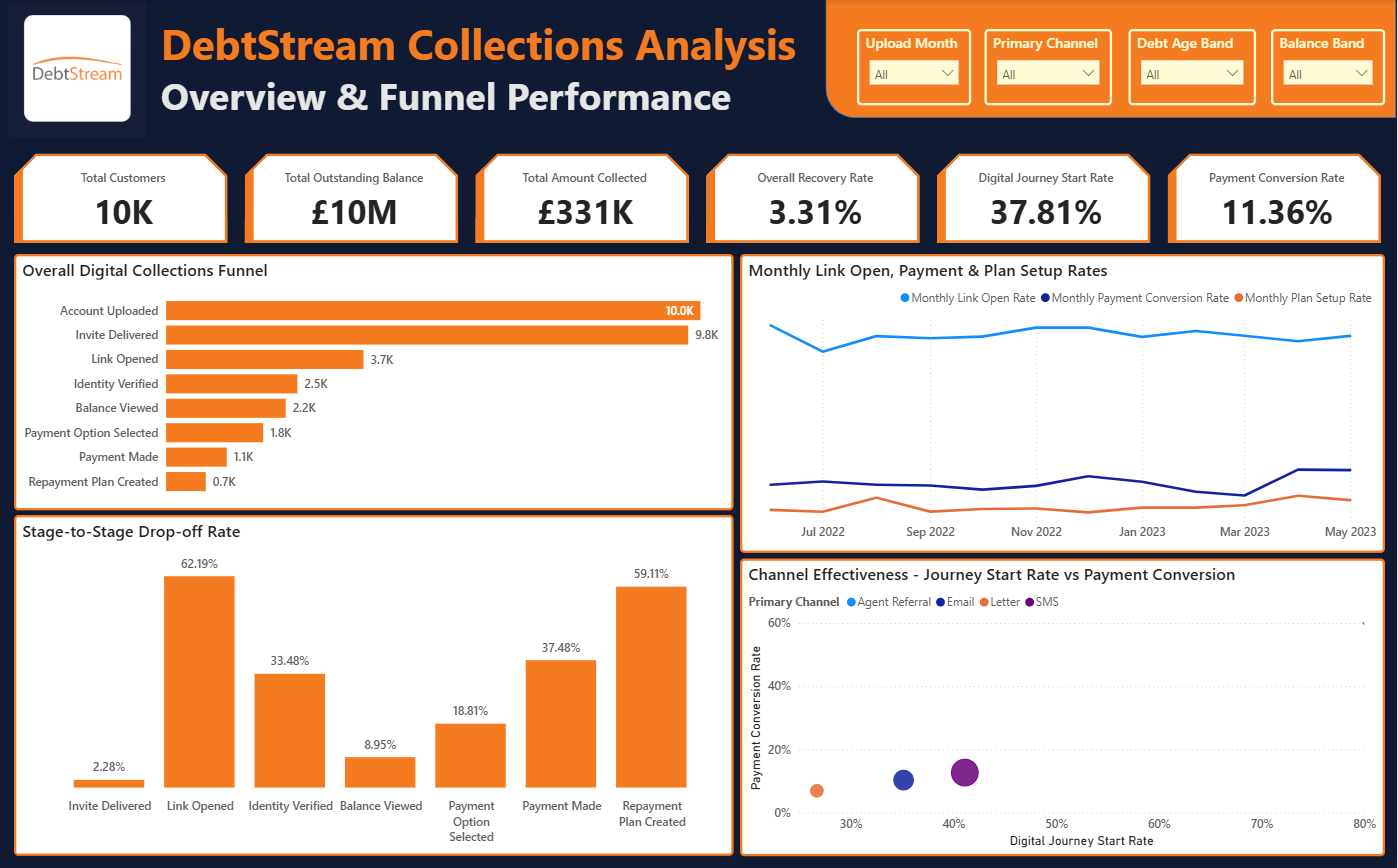

What the dashboard file says about the page in this screenshot:
{"tool":"powerbi","page":{"name":"Overview & Funnel Performance","canvas":[1600,1000],"ordinal":0},"visuals":[{"type":"textbox","box":[180.2,12,748.3,147.6],"z":0},{"type":"image","box":[0,0,179.8,159],"z":1000},{"type":"cardVisual","fields":{"Data":["Key Measures.Total Customers","Key Measures.Total Outstanding Balance","Key Measures.Total Amount Collected","Key Measures.Overall Recovery Rate","Key Measures.Digital Journey Start Rate","Key Measures.Payment Conversion Rate"]},"box":[0,159,1599.4,136.3],"z":2000},{"type":"clusteredBarChart","title":"Overall Digital Collections Funnel","fields":{"Category":["Funnel Stages.Stage"],"Y":["Key Measures.Funnel Customers"]},"box":[17,291.5,823,293],"z":3000},{"type":"clusteredColumnChart","title":"Stage-to-Stage Drop-off Rate","fields":{"Category":["Funnel Stages.Stage"],"Y":["Key Measures.Stage Drop-off Rate"]},"box":[17,590.5,823,389.9],"z":4000},{"type":"lineChart","title":"Monthly Link Open, Payment & Plan Setup Rates","fields":{"Category":["Monthly Funnel Trend.upload_month"],"Y":["Key Measures.Monthly Link Open Rate","Key Measures.Monthly Payment Conversion Rate","Key Measures.Monthly Plan Setup Rate"]},"box":[848,291.5,738.2,342],"z":5000},{"type":"shape","box":[946.4,0,653,136.3],"z":6000},{"type":"scatterChart","title":"Channel Effectiveness - Journey Start Rate vs Payment Conversion","fields":{"Category":["Fact Customer.primary_channel"],"X":["Key Measures.Digital Journey Start Rate"],"Y":["Key Measures.Payment Conversion Rate"],"Size":["Key Measures.Total Customers"],"Series":["Fact Customer.primary_channel"]},"box":[848,639.8,738.2,340.7],"z":7000},{"type":"slicer","title":"Primary Channel","fields":{"Values":["Fact Customer.primary_channel"]},"box":[1128.1,34.1,145.7,87.1],"z":8000},{"type":"slicer","title":"Debt Age Band","fields":{"Values":["Fact Customer.debt_age_band"]},"box":[1292.8,34.1,145.7,87.1],"z":9000},{"type":"slicer","title":"Upload Month","fields":{"Values":["Fact Customer.upload_month"]},"box":[982.3,34.1,130.6,87.1],"z":10000},{"type":"slicer","title":"Balance Band","fields":{"Values":["Fact Customer.balance_band"]},"box":[1455.5,34.1,130.6,87.1],"z":11000}]}

Visuals, with their boxes in screenshot pixels (x1, y1, x2, y2), scaled from the page's 1600x1000 canvas onto the 1398x868 screenshot:
textbox: bbox(157, 10, 811, 139)
image: bbox(0, 0, 157, 138)
cardVisual - Key Measures.Total Customers x Key Measures.Total Outstanding Balance: bbox(0, 138, 1397, 256)
"Overall Digital Collections Funnel" clusteredBarChart: bbox(15, 253, 734, 507)
"Stage-to-Stage Drop-off Rate" clusteredColumnChart: bbox(15, 513, 734, 851)
"Monthly Link Open, Payment & Plan Setup Rates" lineChart: bbox(741, 253, 1386, 550)
shape: bbox(827, 0, 1397, 118)
"Channel Effectiveness - Journey Start Rate vs Payment Conversion" scatterChart: bbox(741, 555, 1386, 851)
"Primary Channel" slicer: bbox(986, 30, 1113, 105)
"Debt Age Band" slicer: bbox(1130, 30, 1257, 105)
"Upload Month" slicer: bbox(858, 30, 972, 105)
"Balance Band" slicer: bbox(1272, 30, 1386, 105)
